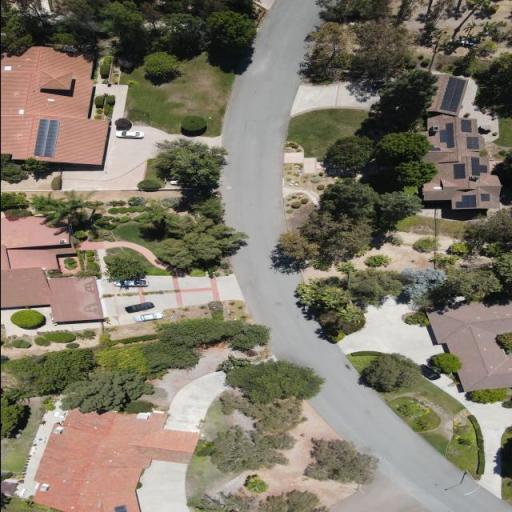solar-panel: (33, 119, 59, 157), (439, 76, 465, 113), (439, 123, 454, 147), (470, 157, 487, 176), (455, 195, 476, 208), (452, 163, 465, 179), (466, 137, 478, 149), (461, 120, 471, 132), (112, 505, 127, 512), (428, 145, 440, 151), (480, 194, 489, 201)
